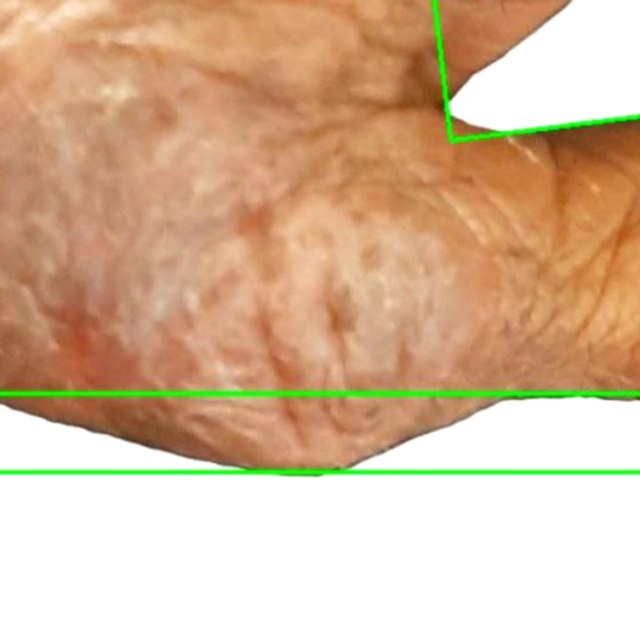Eczema: (0, 0, 639, 472), (0, 393, 639, 639), (432, 0, 639, 141)
